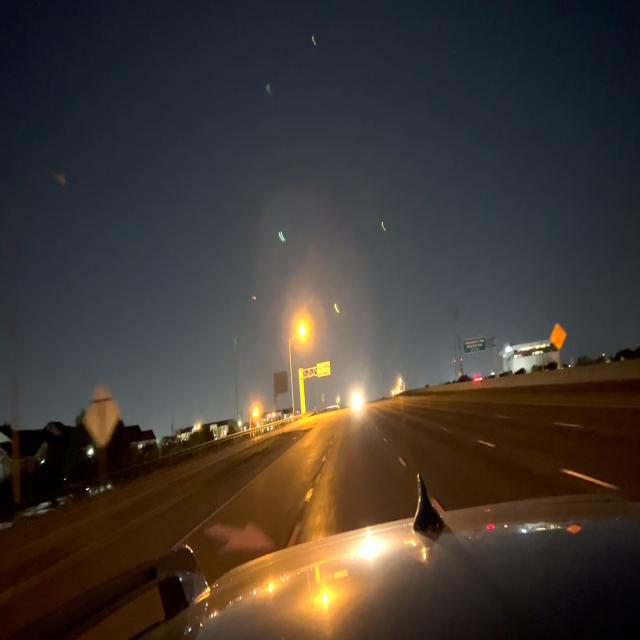back-of-sign: (84, 389, 119, 448)
